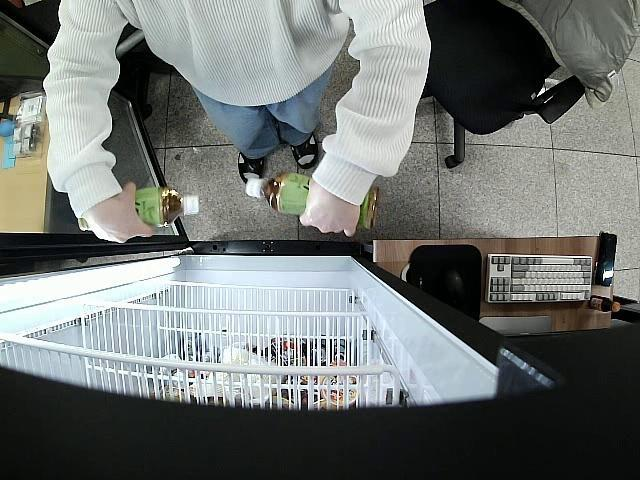19_17cha: (245, 170, 380, 232), (77, 186, 199, 230)
